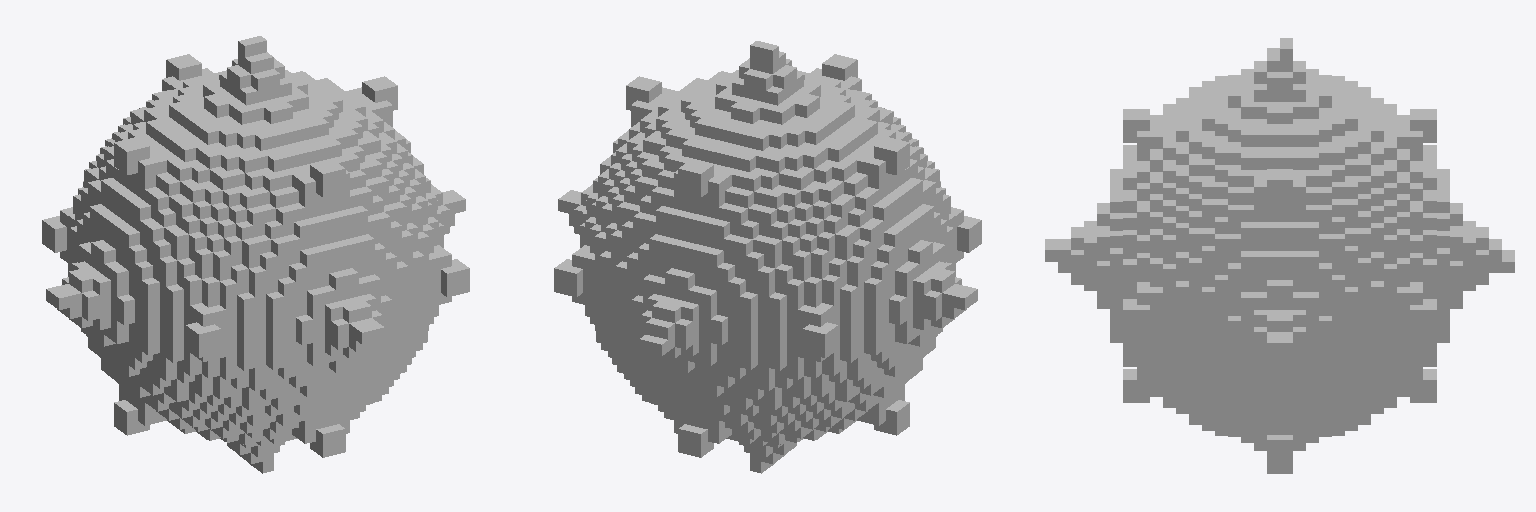
Rendered from SL_Flail_Ball.obj.
3 views of the same model, side by side, from view 1: azimuth 30°, elevation 25°; view 2: azimuth 150°, elevation 25°; view 3: azimuth 270°, elevation 25° (orthographic).
Parts seen in each view (by area): view 1: SL_Flail_Ball.001; view 2: SL_Flail_Ball.001; view 3: SL_Flail_Ball.001.
Part boxes in pixels (bbox=[...]): SL_Flail_Ball.001: bbox=[42, 36, 469, 473]; SL_Flail_Ball.001: bbox=[554, 41, 981, 473]; SL_Flail_Ball.001: bbox=[1045, 38, 1514, 473].
Size of the model in its own units: 36 by 36 by 36.